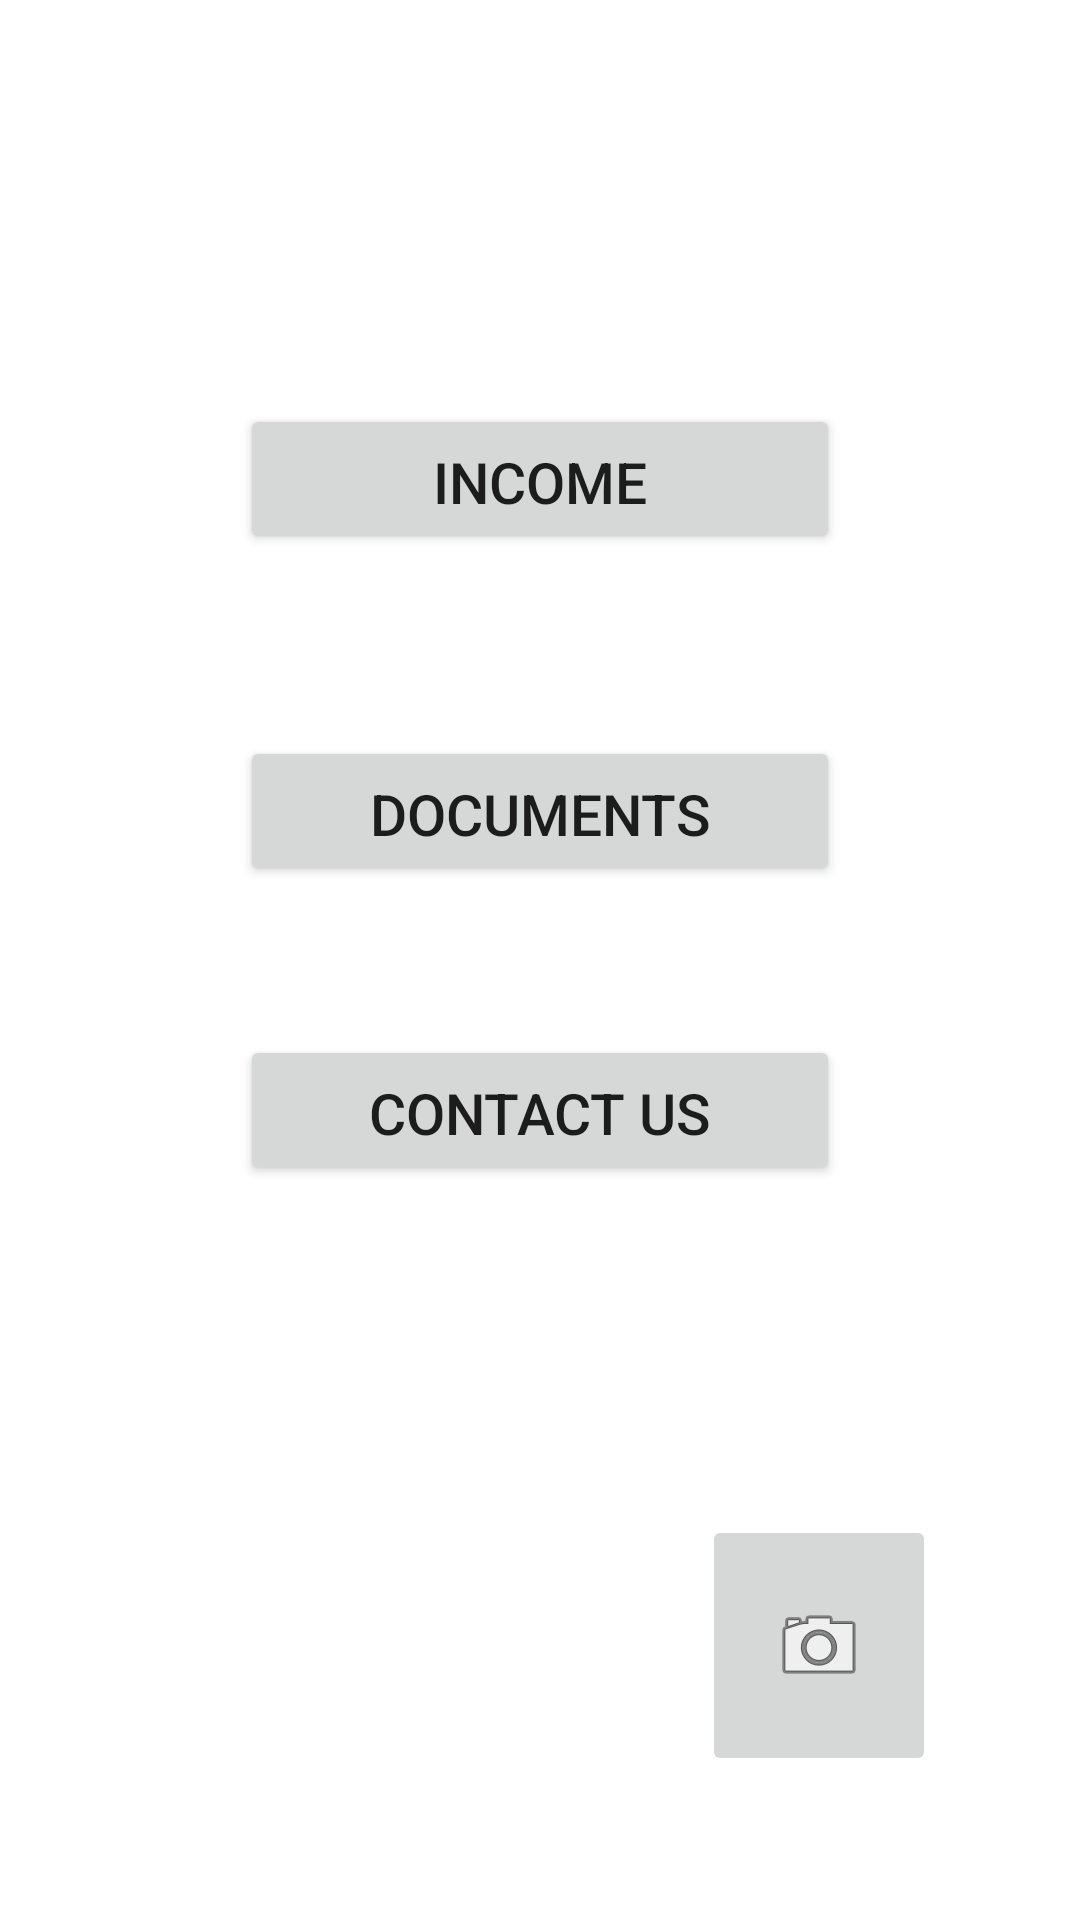

Screen size 1080 × 1920. Icon name, then its center in pixels as [x,y]:
camera: [819,1645]
